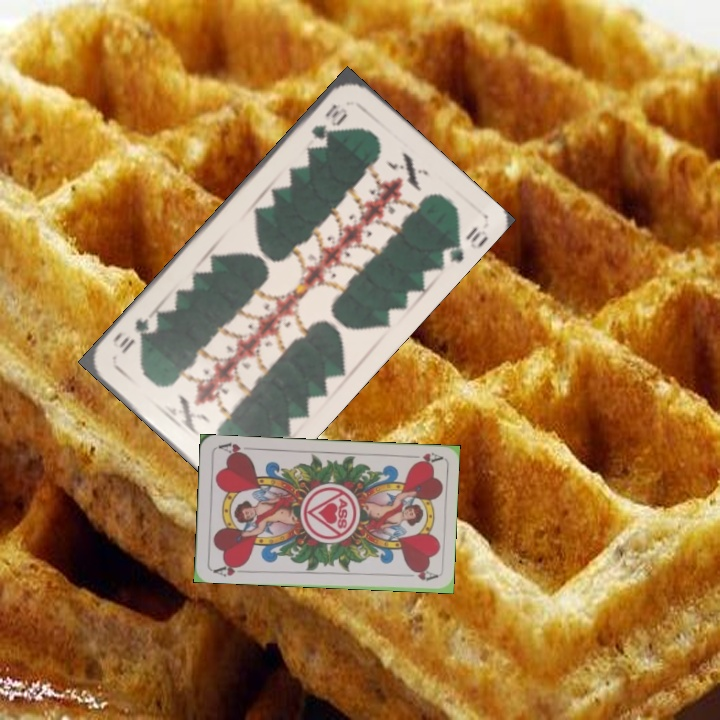G10: (307, 100, 350, 143)
HA: (209, 559, 249, 579), (403, 449, 443, 467)
